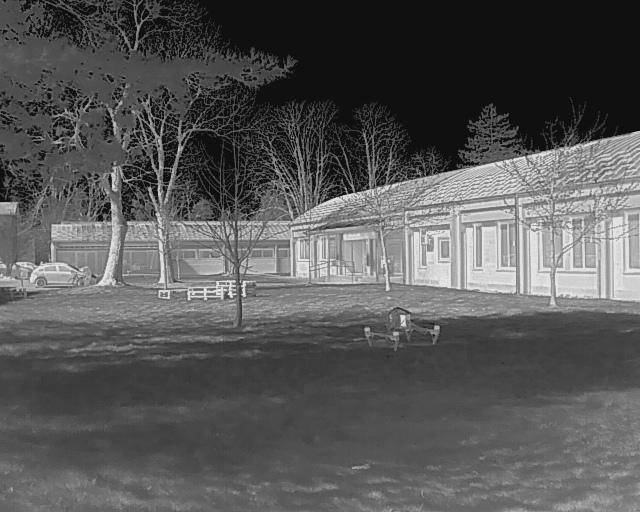drone: (347, 294, 457, 369)
